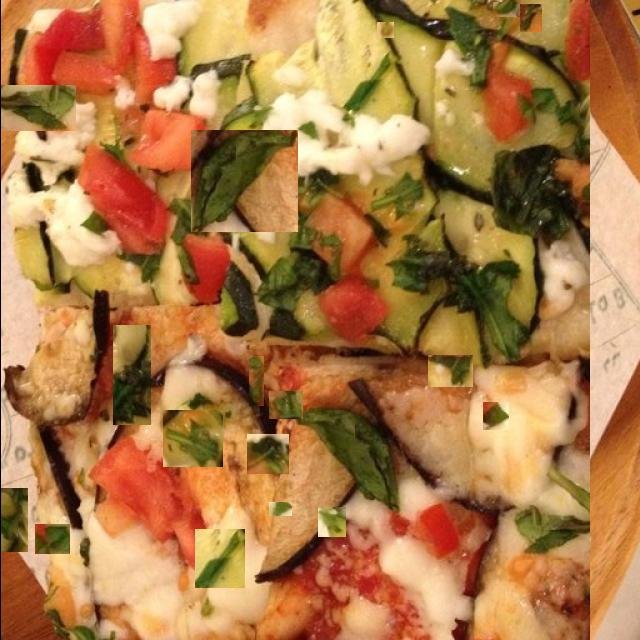basil: (190, 130, 297, 232), (60, 279, 108, 384), (262, 328, 337, 388), (112, 325, 150, 425), (100, 552, 146, 634), (381, 354, 422, 446), (0, 85, 75, 131), (162, 410, 222, 467), (194, 530, 244, 590), (152, 348, 202, 402), (160, 425, 220, 466), (0, 488, 27, 552), (246, 434, 288, 474), (335, 563, 402, 588), (427, 355, 472, 387), (34, 524, 69, 554), (268, 391, 302, 419), (317, 507, 345, 537), (248, 356, 263, 406), (482, 402, 508, 430), (519, 4, 541, 32), (492, 2, 519, 17), (268, 502, 291, 516), (348, 452, 365, 470), (376, 22, 393, 38)
pizza: (0, 0, 589, 640)
